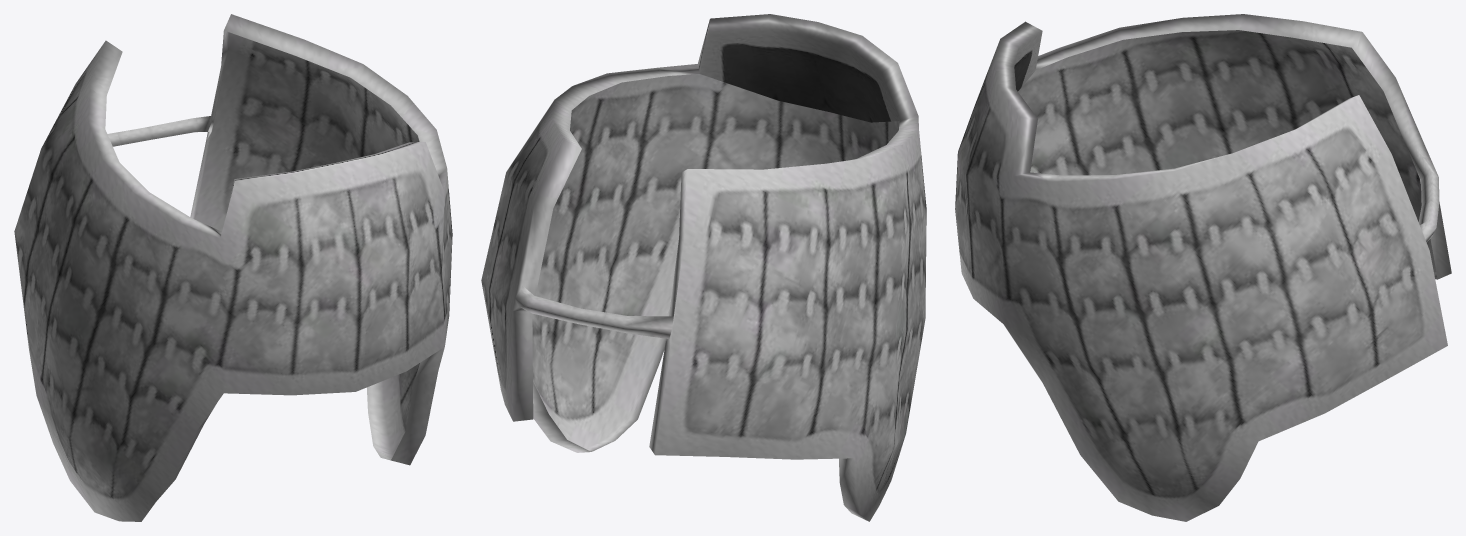
Rendered from rider-helmet-slice-mediumarchers.glb.
The picture shows the model from 3 angles, left to right: view 1: azimuth 30°, elevation 25°; view 2: azimuth 150°, elevation 25°; view 3: azimuth 270°, elevation 25°; orthographic projection.
Bounding box in the file's own units: 0.2279 × 0.2378 × 0.272.
1 material, 1 textured.
